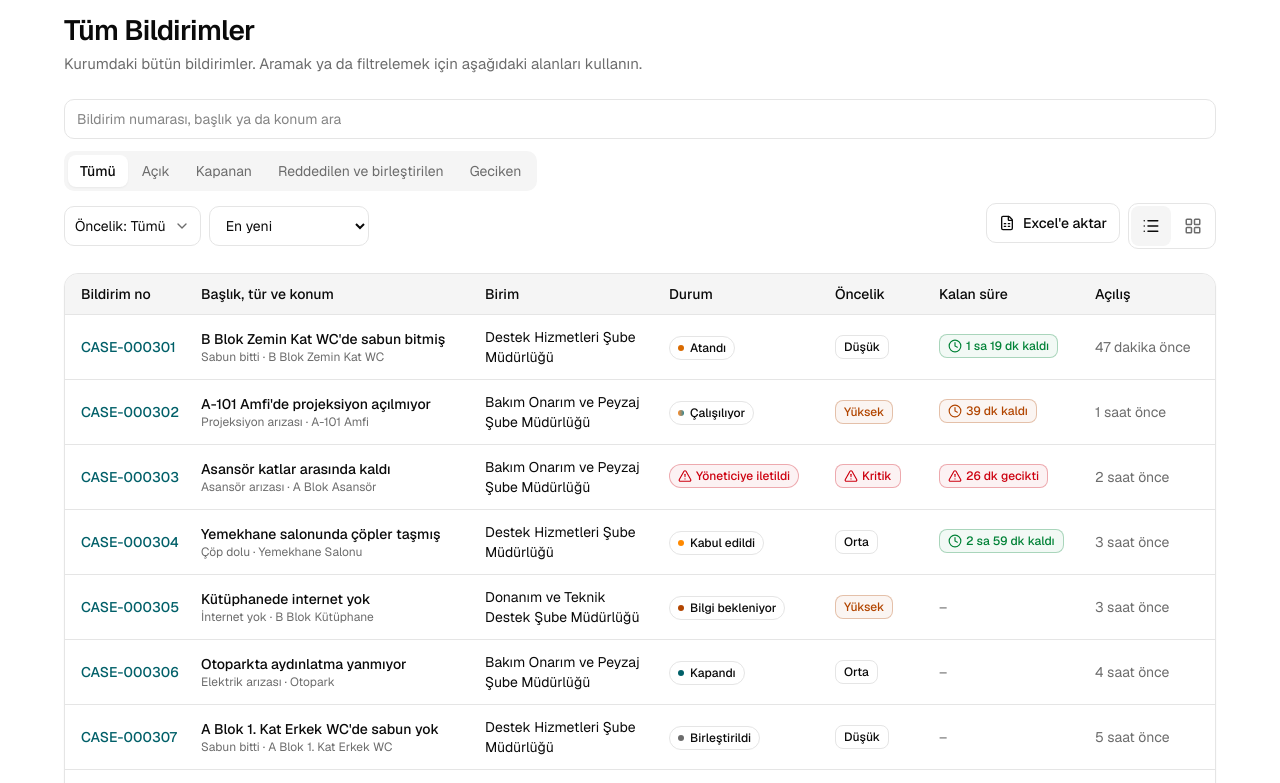
Test case: CaseList › narrows the list by status group
Click the button "Geciken".
click(495, 171)  # box 458,155 -> 533,187
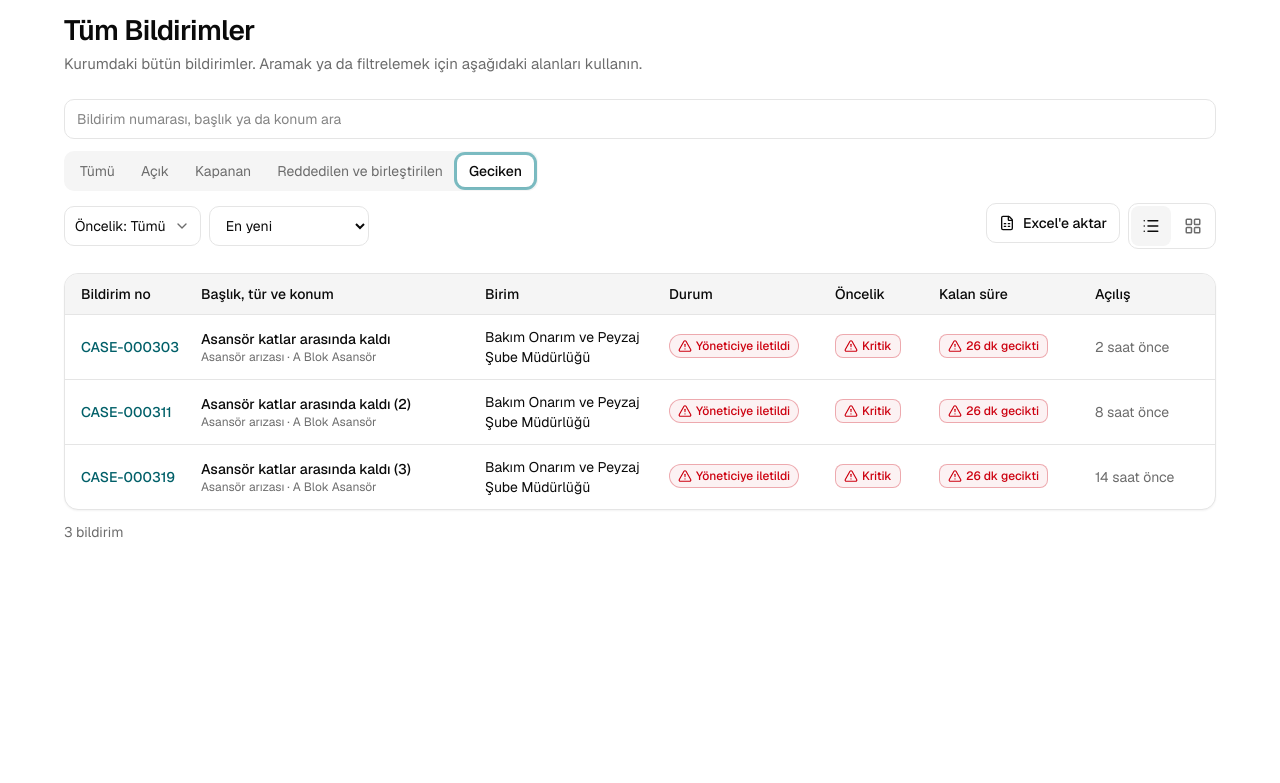
Expected: the list item that starts with "CASE-000303" shows "gecikti", 65,314 -> 1215,379
Now the number of list items is 3, box 65,314 -> 1215,379; 65,379 -> 1215,444; 65,444 -> 1215,509
Click the button "Reddedilen ve birleştirilen".
click(360, 171)  # box 265,155 -> 455,187
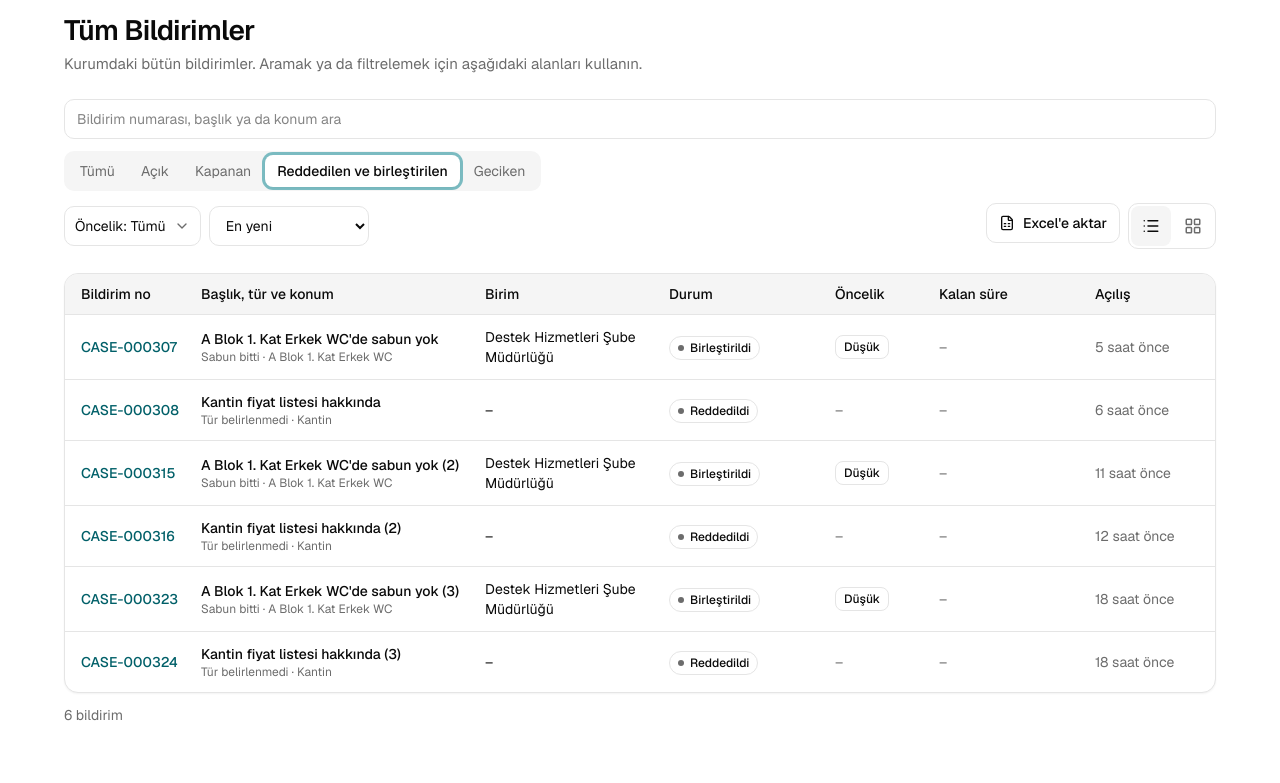
Now the number of list items is 6, box 65,314 -> 1215,379; 65,379 -> 1215,440; 65,440 -> 1215,505; 65,505 -> 1215,566; 65,566 -> 1215,631; 65,631 -> 1215,692
